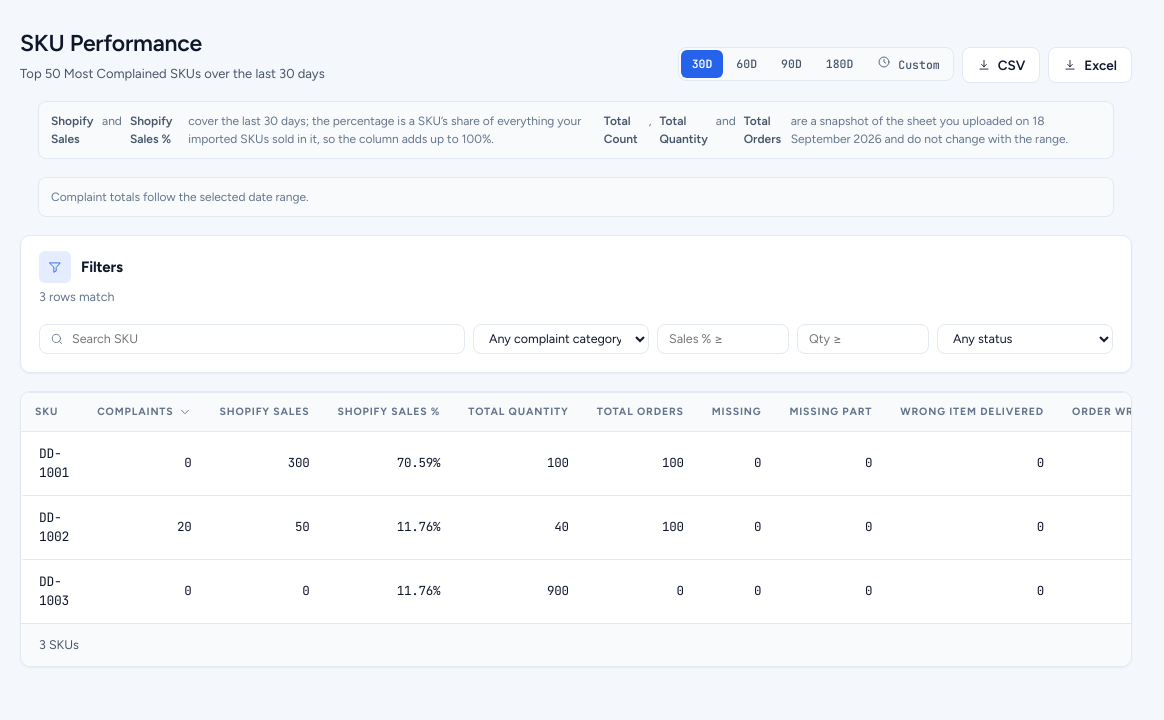
Test case: SKU Performance › refuses a backwards custom range rather than asking for it
Expected: the heading "SKU Performance" is shown, 20,29 -> 202,57
Click the button "Custom" at (909, 64), box 866,50 -> 951,78
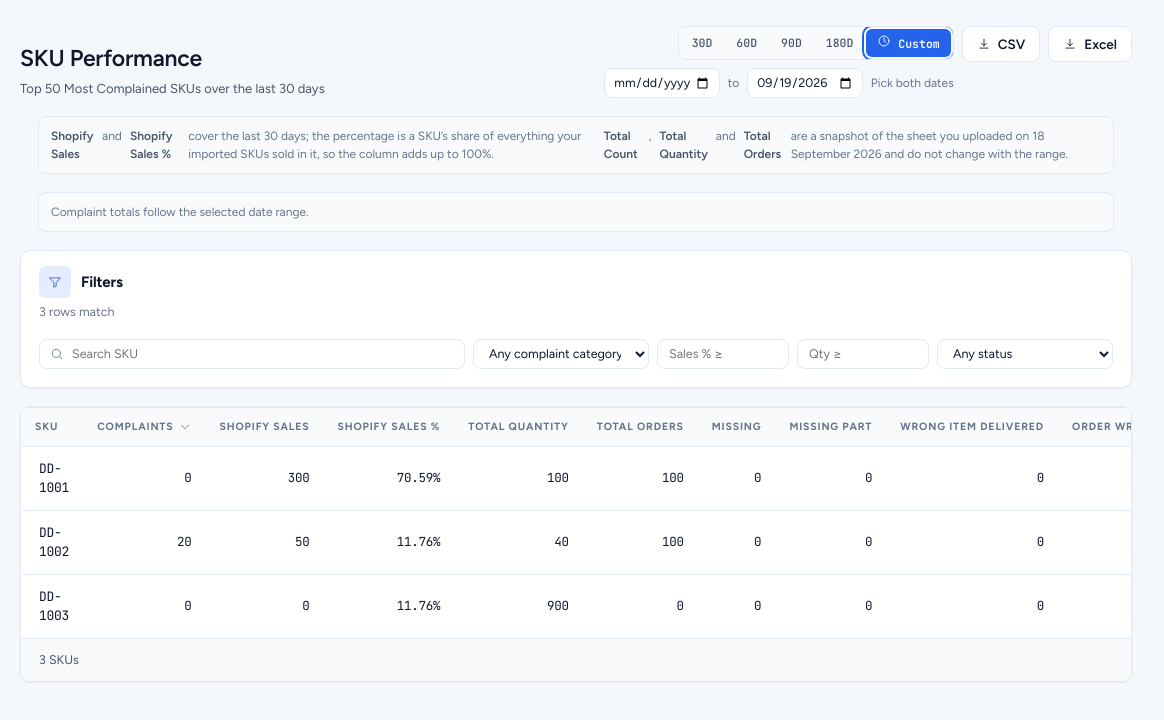
Type "2026-03-01" into the date field named "End date" at (805, 83), box 747,68 -> 863,98
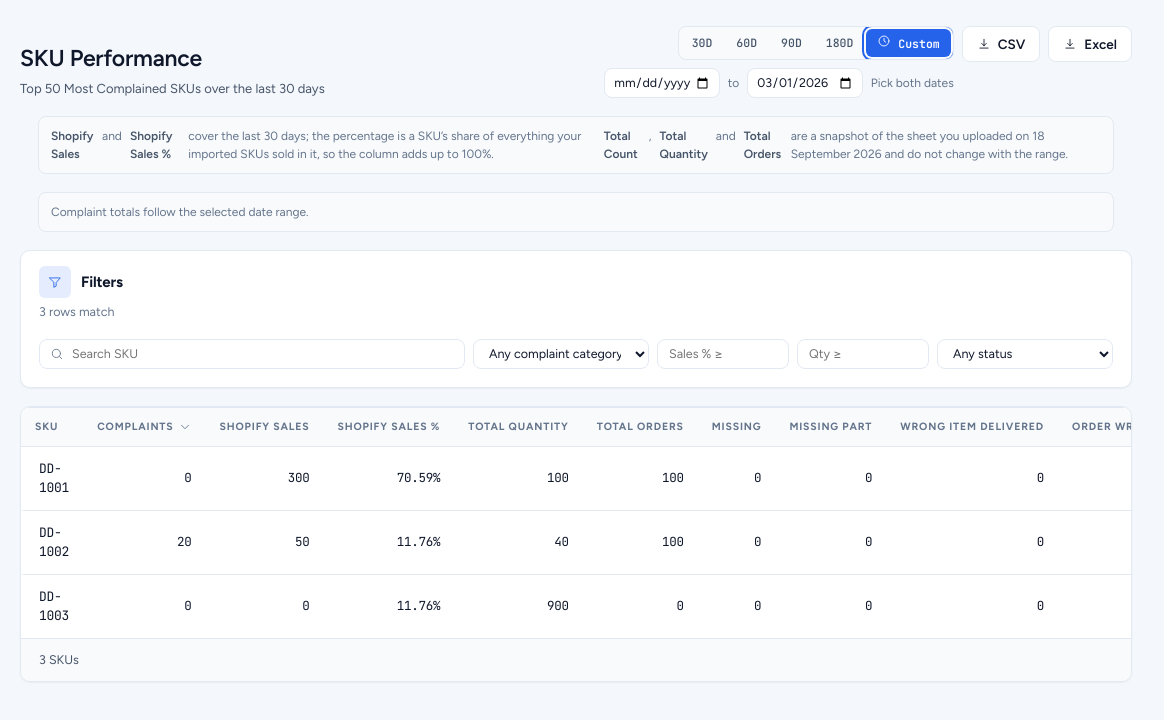
Type "2026-03-31" into the date field named "Start date" at (662, 83), box 604,68 -> 720,98
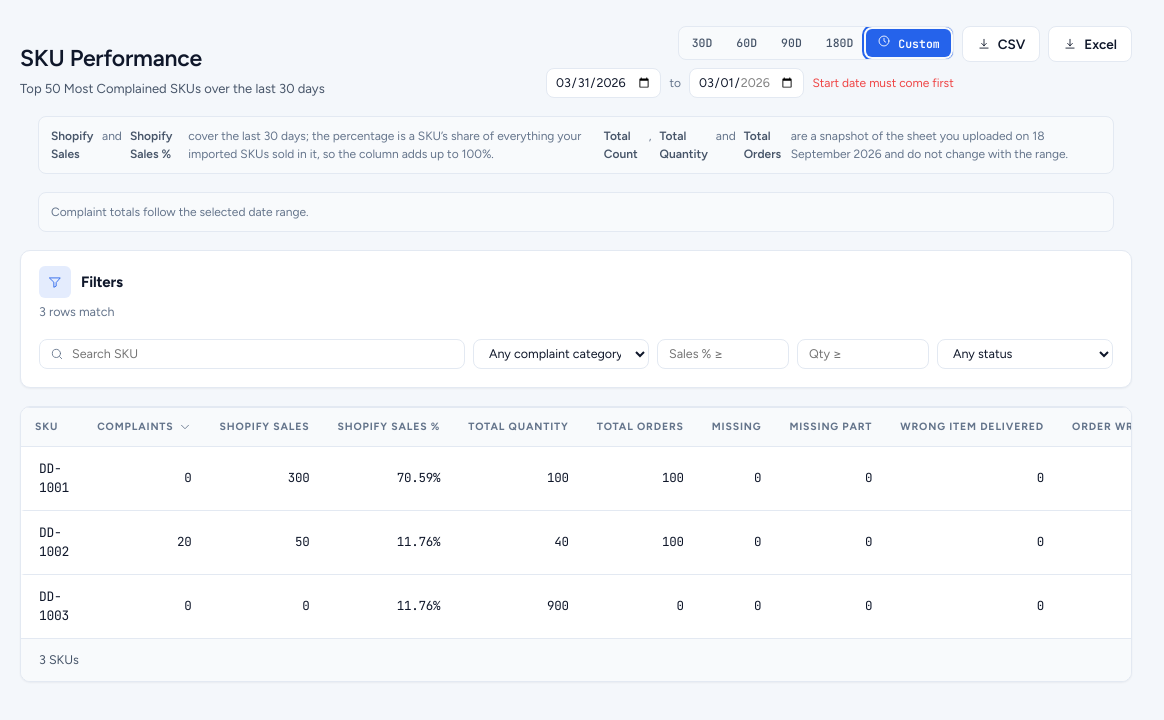
Result: the text "Start date must come first" is shown at 812,74 -> 954,92
